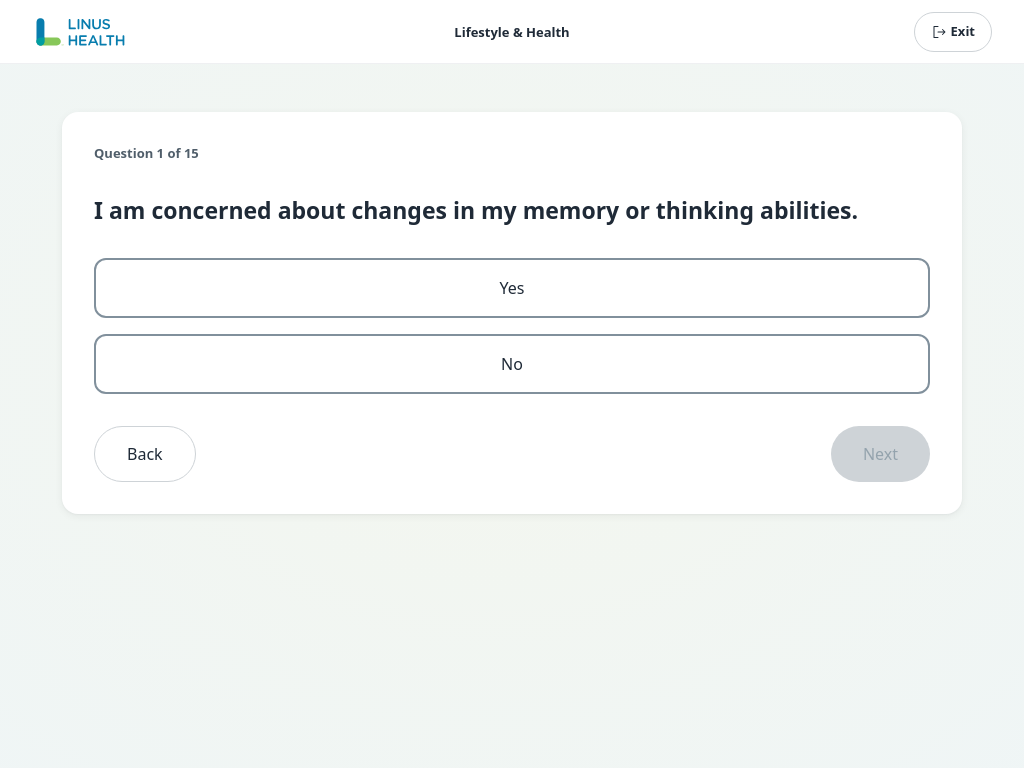
it: LifestyleQuestionsPage › Back after advancing returns to the previous question with its answer preserved
The image size is (1024, 768).
Click the radio button labelled "No".
click(512, 364)  # box 94,334 -> 930,394
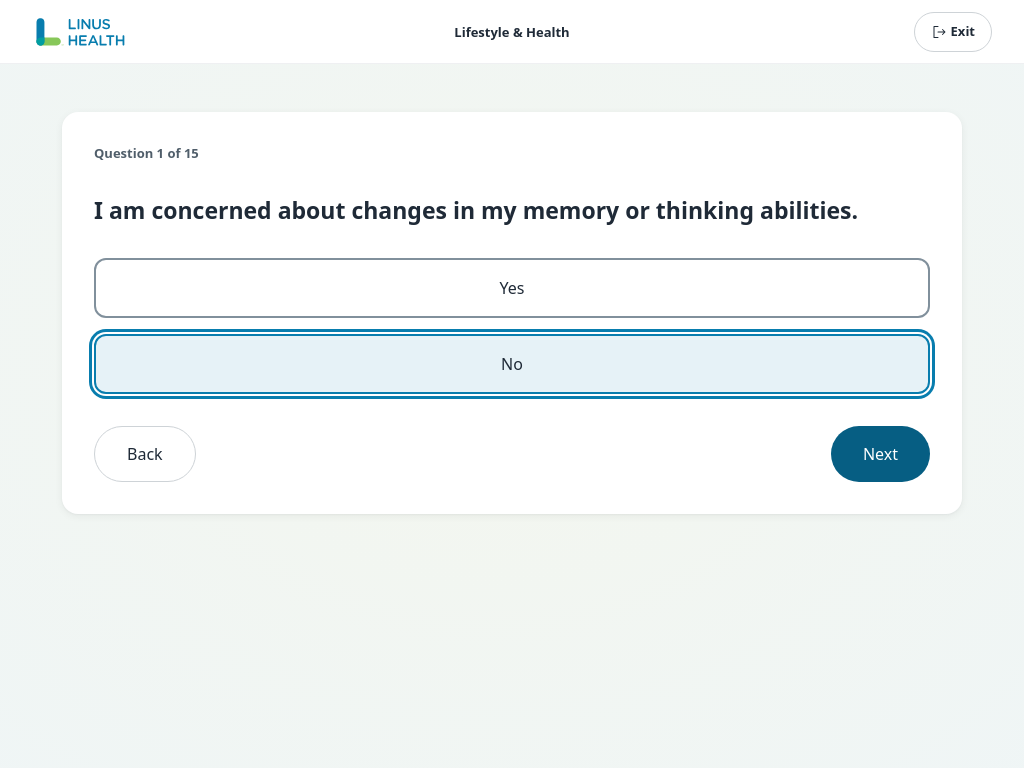
Click the button "Next".
click(880, 454)  # box 831,426 -> 930,482
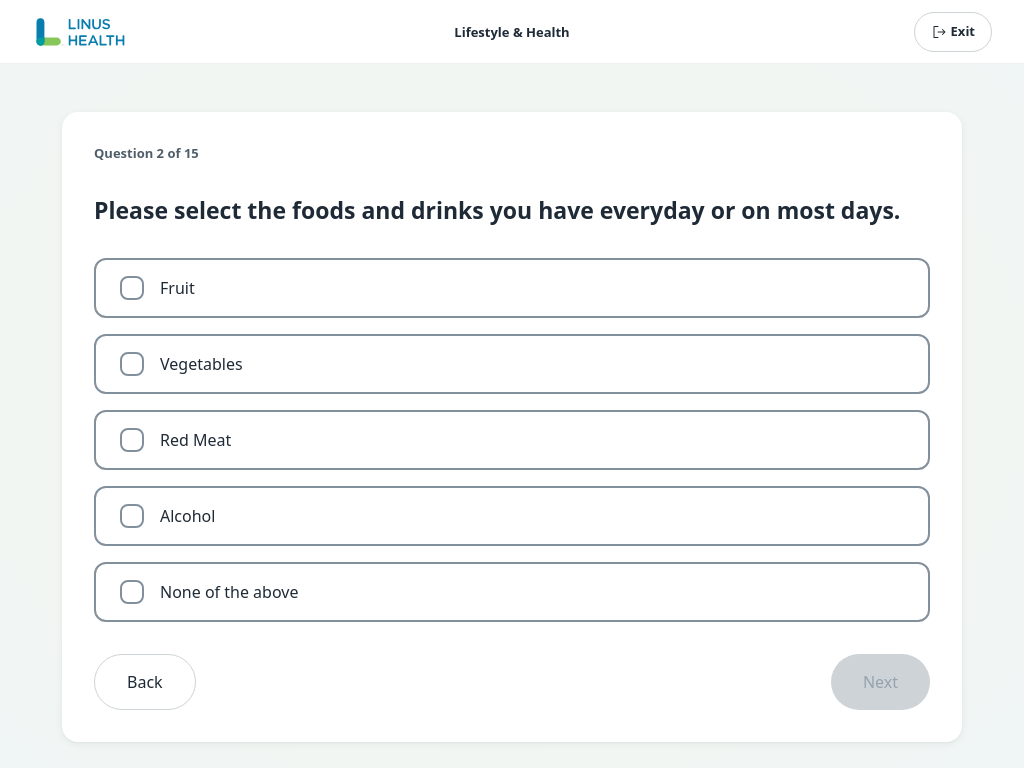
Check: the text "Question 2 of 15" is shown, box 94,144 -> 199,162
Click the button "Back".
click(145, 682)  # box 94,654 -> 196,710
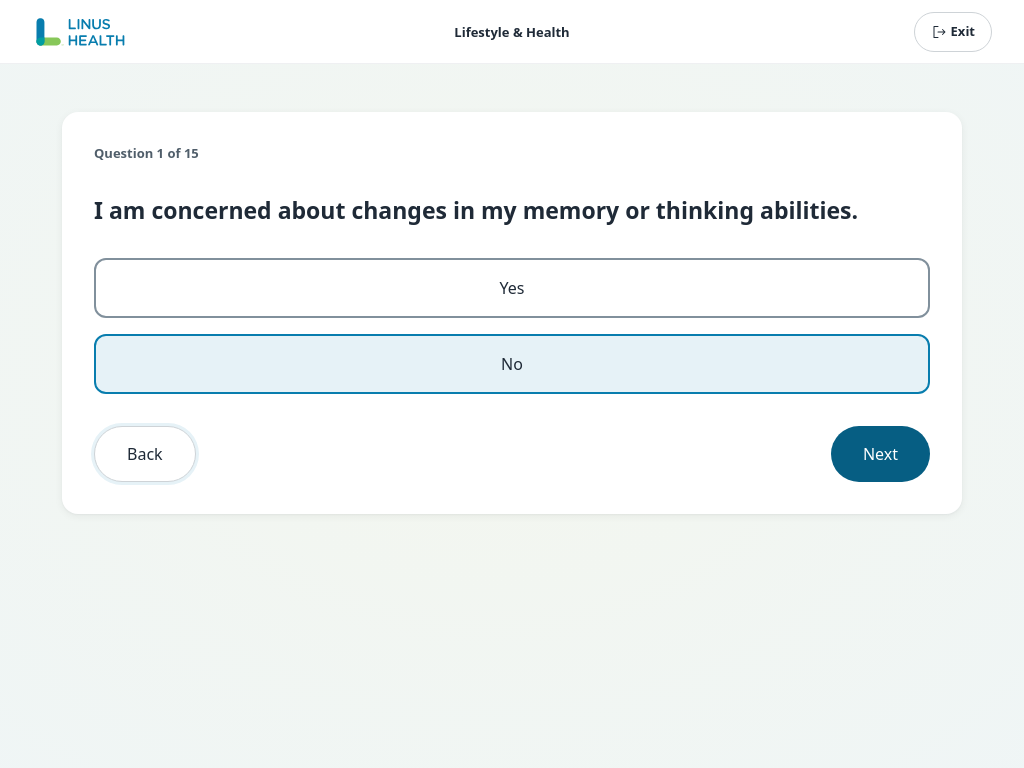
Check: the text "Question 1 of 15" is shown, box 94,144 -> 199,162
Check: the radio button labelled "No" is checked, box 94,334 -> 930,394
